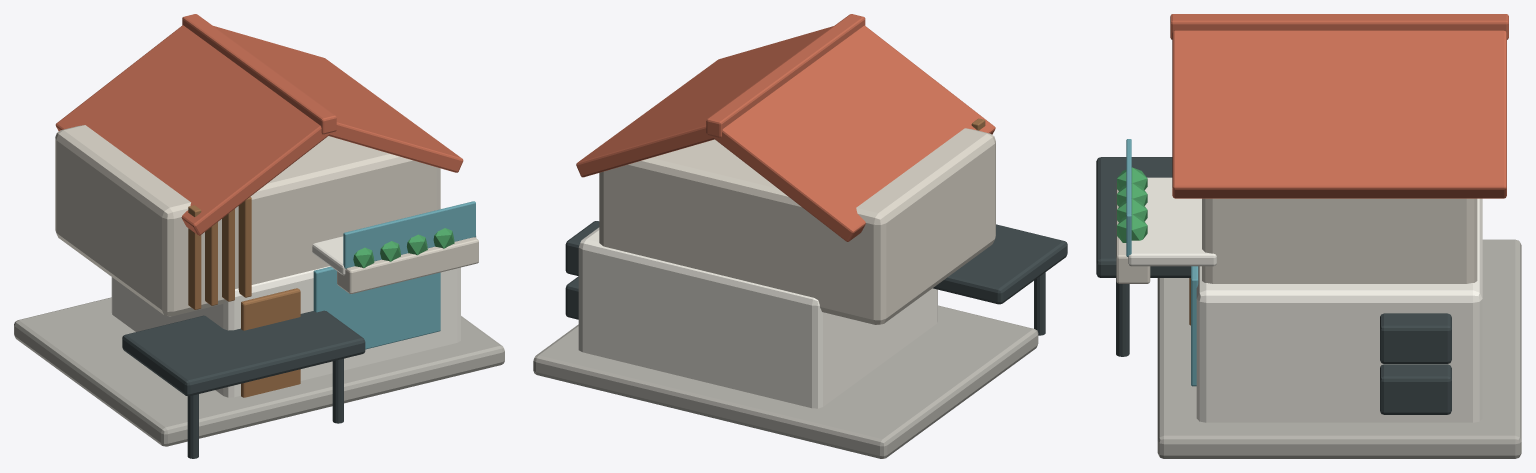
File: landed.glb
The picture shows the model from 3 angles, left to right: view 1: azimuth 30°, elevation 25°; view 2: azimuth 150°, elevation 25°; view 3: azimuth 270°, elevation 25°; orthographic projection. The views are drawn at different scales.
Parts seen in each view (by area): view 1: Upper floor, Tiled roof, Site slab, Car porch canopy, Tiled roof.001, Ground floor, Living glass, Balcony rail, Planter ledge, Roof ridge, Entry door, Privacy fin.003 (+6 smaller); view 2: Upper floor, Ground floor, Tiled roof, Site slab, Tiled roof.001, Car porch canopy, Roof ridge, AC condenser.001, Porch column; view 3: Tiled roof.001, Ground floor, Site slab, Upper floor, Roof ridge, Balcony, Car porch canopy, AC condenser.001, AC condenser, Porch column.001, Planter ledge, Living glass (+2 smaller).
Boxes of the visible parts, x1,y1,x2,y2 form: Upper floor: (55, 125, 440, 316); Tiled roof: (55, 25, 330, 235); Site slab: (14, 297, 504, 446); Car porch canopy: (122, 310, 365, 396); Tiled roof.001: (213, 26, 463, 172); Ground floor: (111, 266, 460, 397); Living glass: (313, 266, 440, 349); Balcony rail: (343, 201, 475, 268); Planter ledge: (337, 237, 478, 293); Roof ridge: (182, 14, 336, 134); Entry door: (241, 288, 300, 397); Privacy fin.003: (238, 197, 251, 297); Upper floor: (599, 128, 995, 324); Ground floor: (578, 227, 937, 408); Tiled roof: (706, 25, 995, 241); Site slab: (533, 305, 1038, 458); Tiled roof.001: (576, 26, 833, 177); Car porch canopy: (933, 224, 1067, 304); Roof ridge: (706, 14, 865, 137); AC condenser.001: (565, 221, 599, 275); Porch column: (1034, 272, 1045, 335); Tiled roof.001: (1172, 30, 1506, 198); Ground floor: (1196, 198, 1482, 422); Site slab: (1157, 239, 1521, 458); Upper floor: (1202, 198, 1477, 283); Roof ridge: (1170, 14, 1508, 39); Balcony: (1128, 177, 1216, 266); Car porch canopy: (1096, 157, 1190, 277); AC condenser.001: (1380, 313, 1451, 363); AC condenser: (1380, 364, 1451, 414); Porch column.001: (1116, 278, 1129, 356); Planter ledge: (1116, 183, 1150, 283); Living glass: (1191, 266, 1198, 386).
Bounding box in the file's own units: 4.53 × 3.58 × 4.02.
